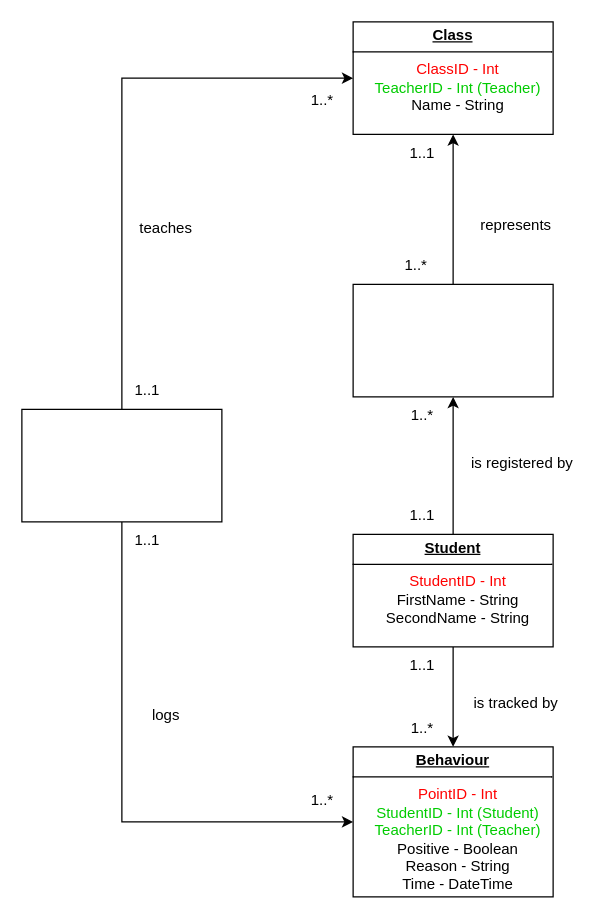
This 606x919 diagram has some shape labels left out. Each missing label, with the centre of its shape:
ClassStudent RegID - Int StudentID - Int (Student) ClassID - Int (Class): point 452,340
Teacher TeacherID - Int FirstName - String SecondName - String: point 121,465
